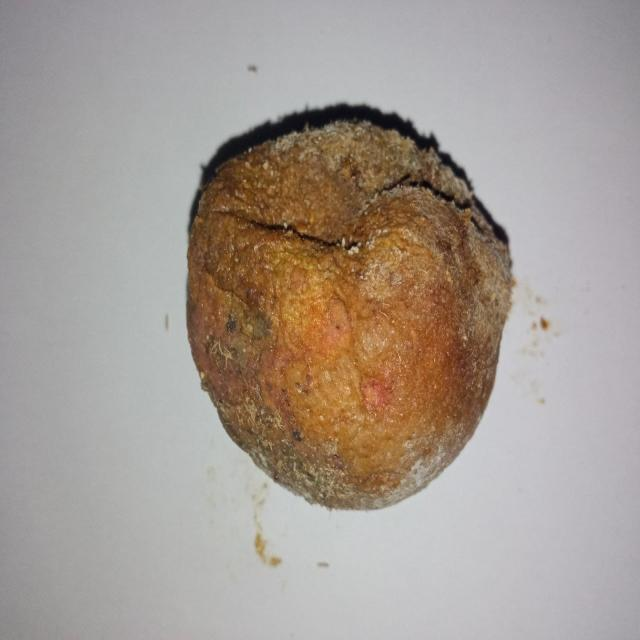rotten_orange: (183, 114, 509, 512)
